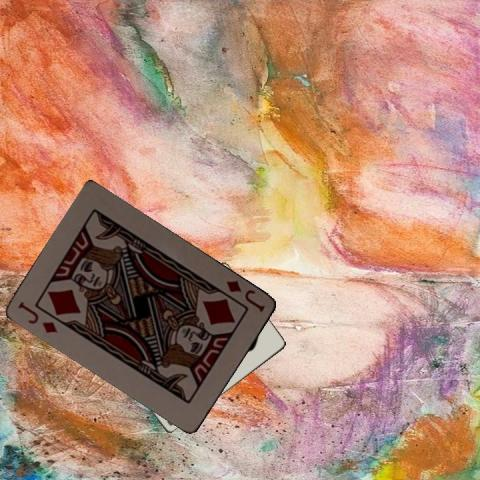Jd: (15, 298, 60, 335), (224, 277, 268, 314)
